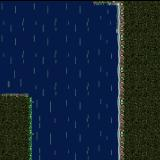Interaction: (112, 0, 132, 160), (88, 0, 112, 10)
Slow: (0, 0, 115, 91), (33, 91, 116, 160)
